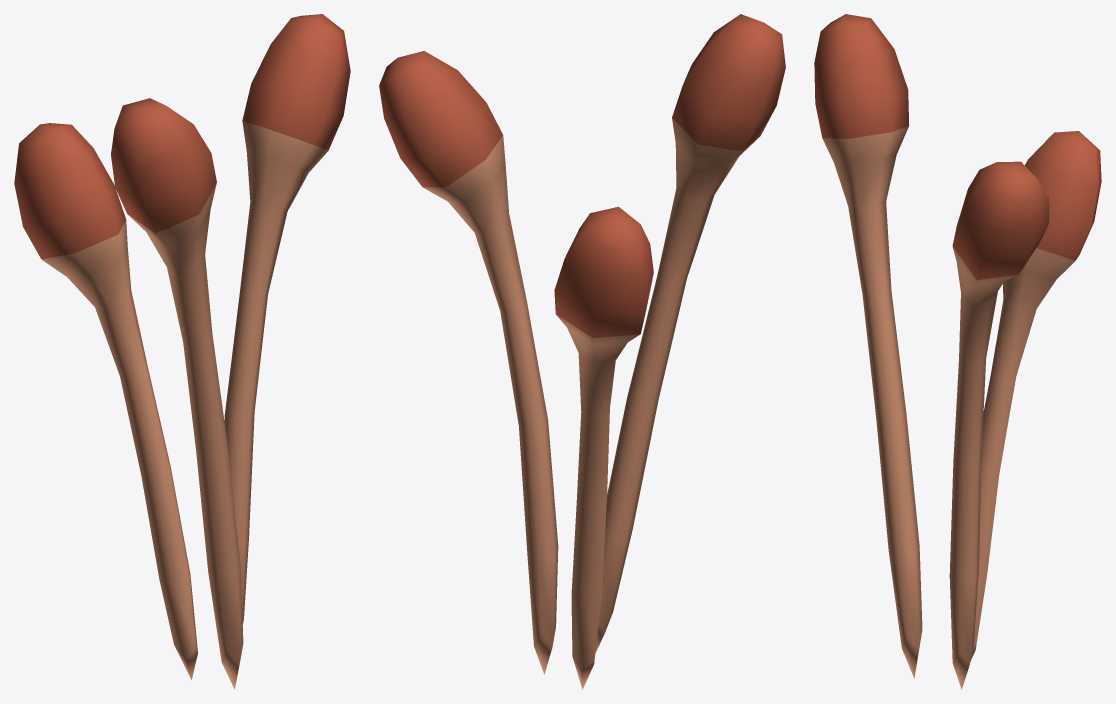
The model's file is Buds_A_01.fbx.
3 renders of one model, left to right at view 1: azimuth 30°, elevation 25°; view 2: azimuth 150°, elevation 25°; view 3: azimuth 270°, elevation 25°, orthographic. The views are drawn at different scales.
Parts seen in each view (by area): view 1: Buds_A_01_LOD0; view 2: Buds_A_01_LOD0; view 3: Buds_A_01_LOD0.
Boxes of the visible parts, x1,y1,x2,y2 form: Buds_A_01_LOD0: (14, 14, 350, 689); Buds_A_01_LOD0: (379, 14, 785, 689); Buds_A_01_LOD0: (814, 14, 1101, 689).
Size of what is drawn, in the model's own units: 212 by 424 by 181.
